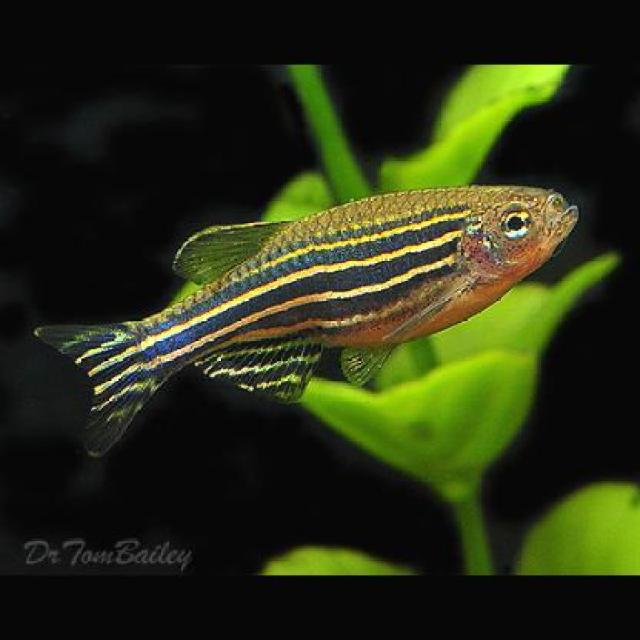ZebraFish: (31, 181, 582, 459)
